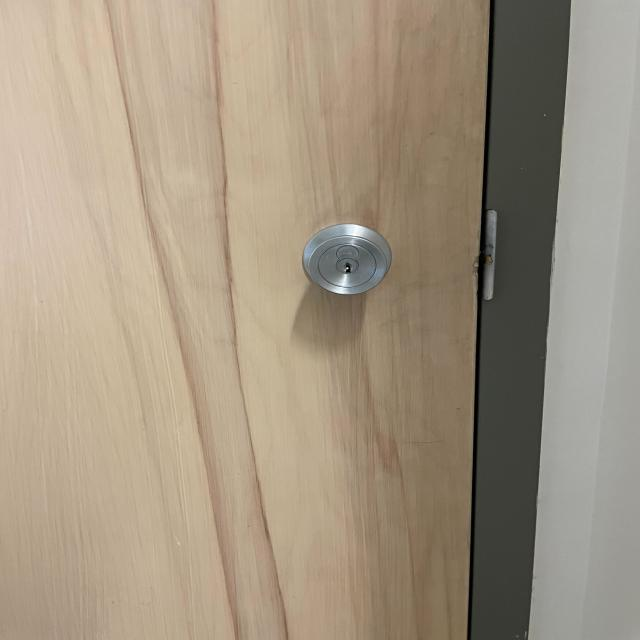door-knob: (303, 224, 392, 295)
